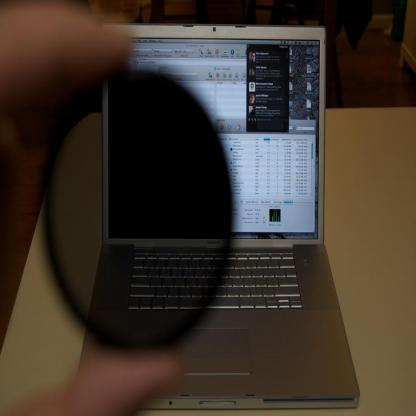board: (76, 23, 349, 386)
